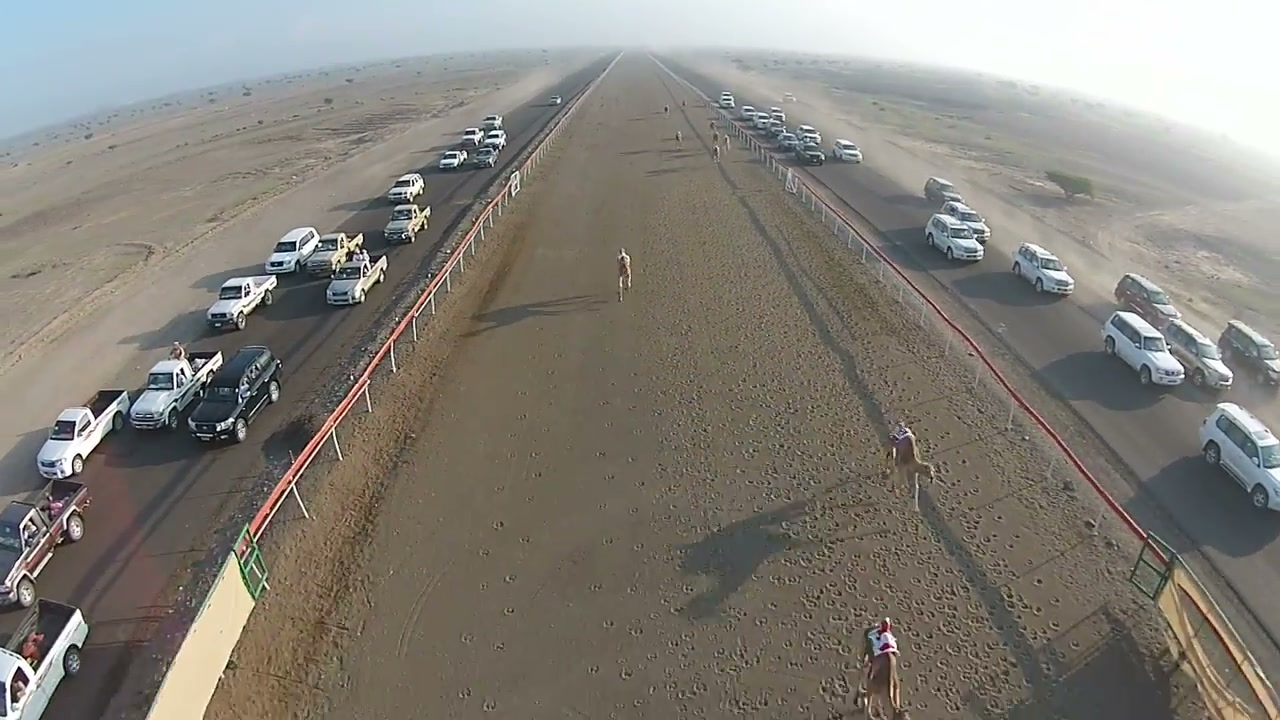animal_footprint: (917, 460, 1128, 711), (748, 302, 886, 668), (637, 337, 771, 708), (579, 304, 666, 693), (439, 498, 535, 708)
